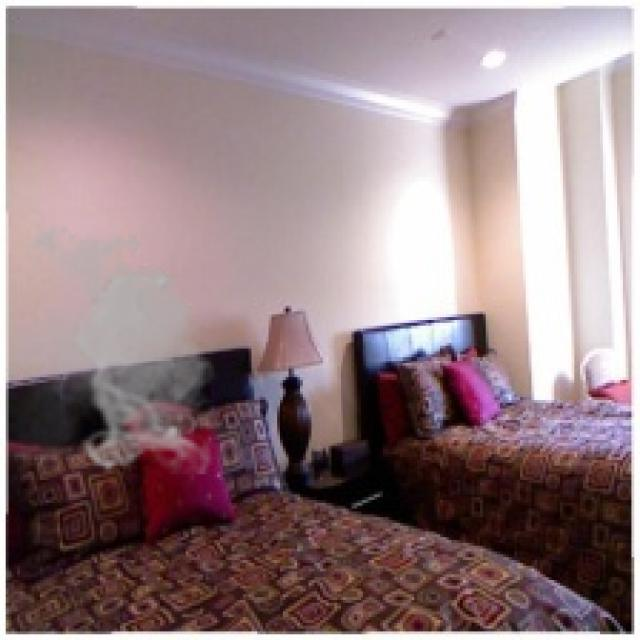smoke: (8, 217, 223, 474)
